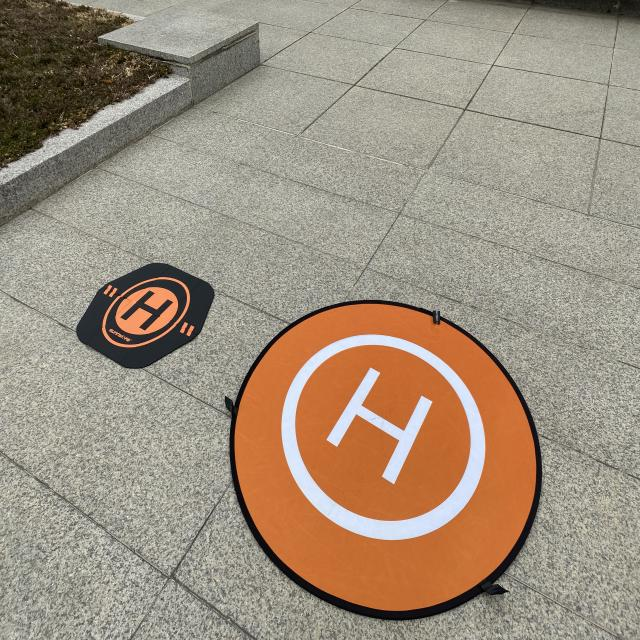helipad: (279, 333, 486, 542), (101, 276, 190, 348)
